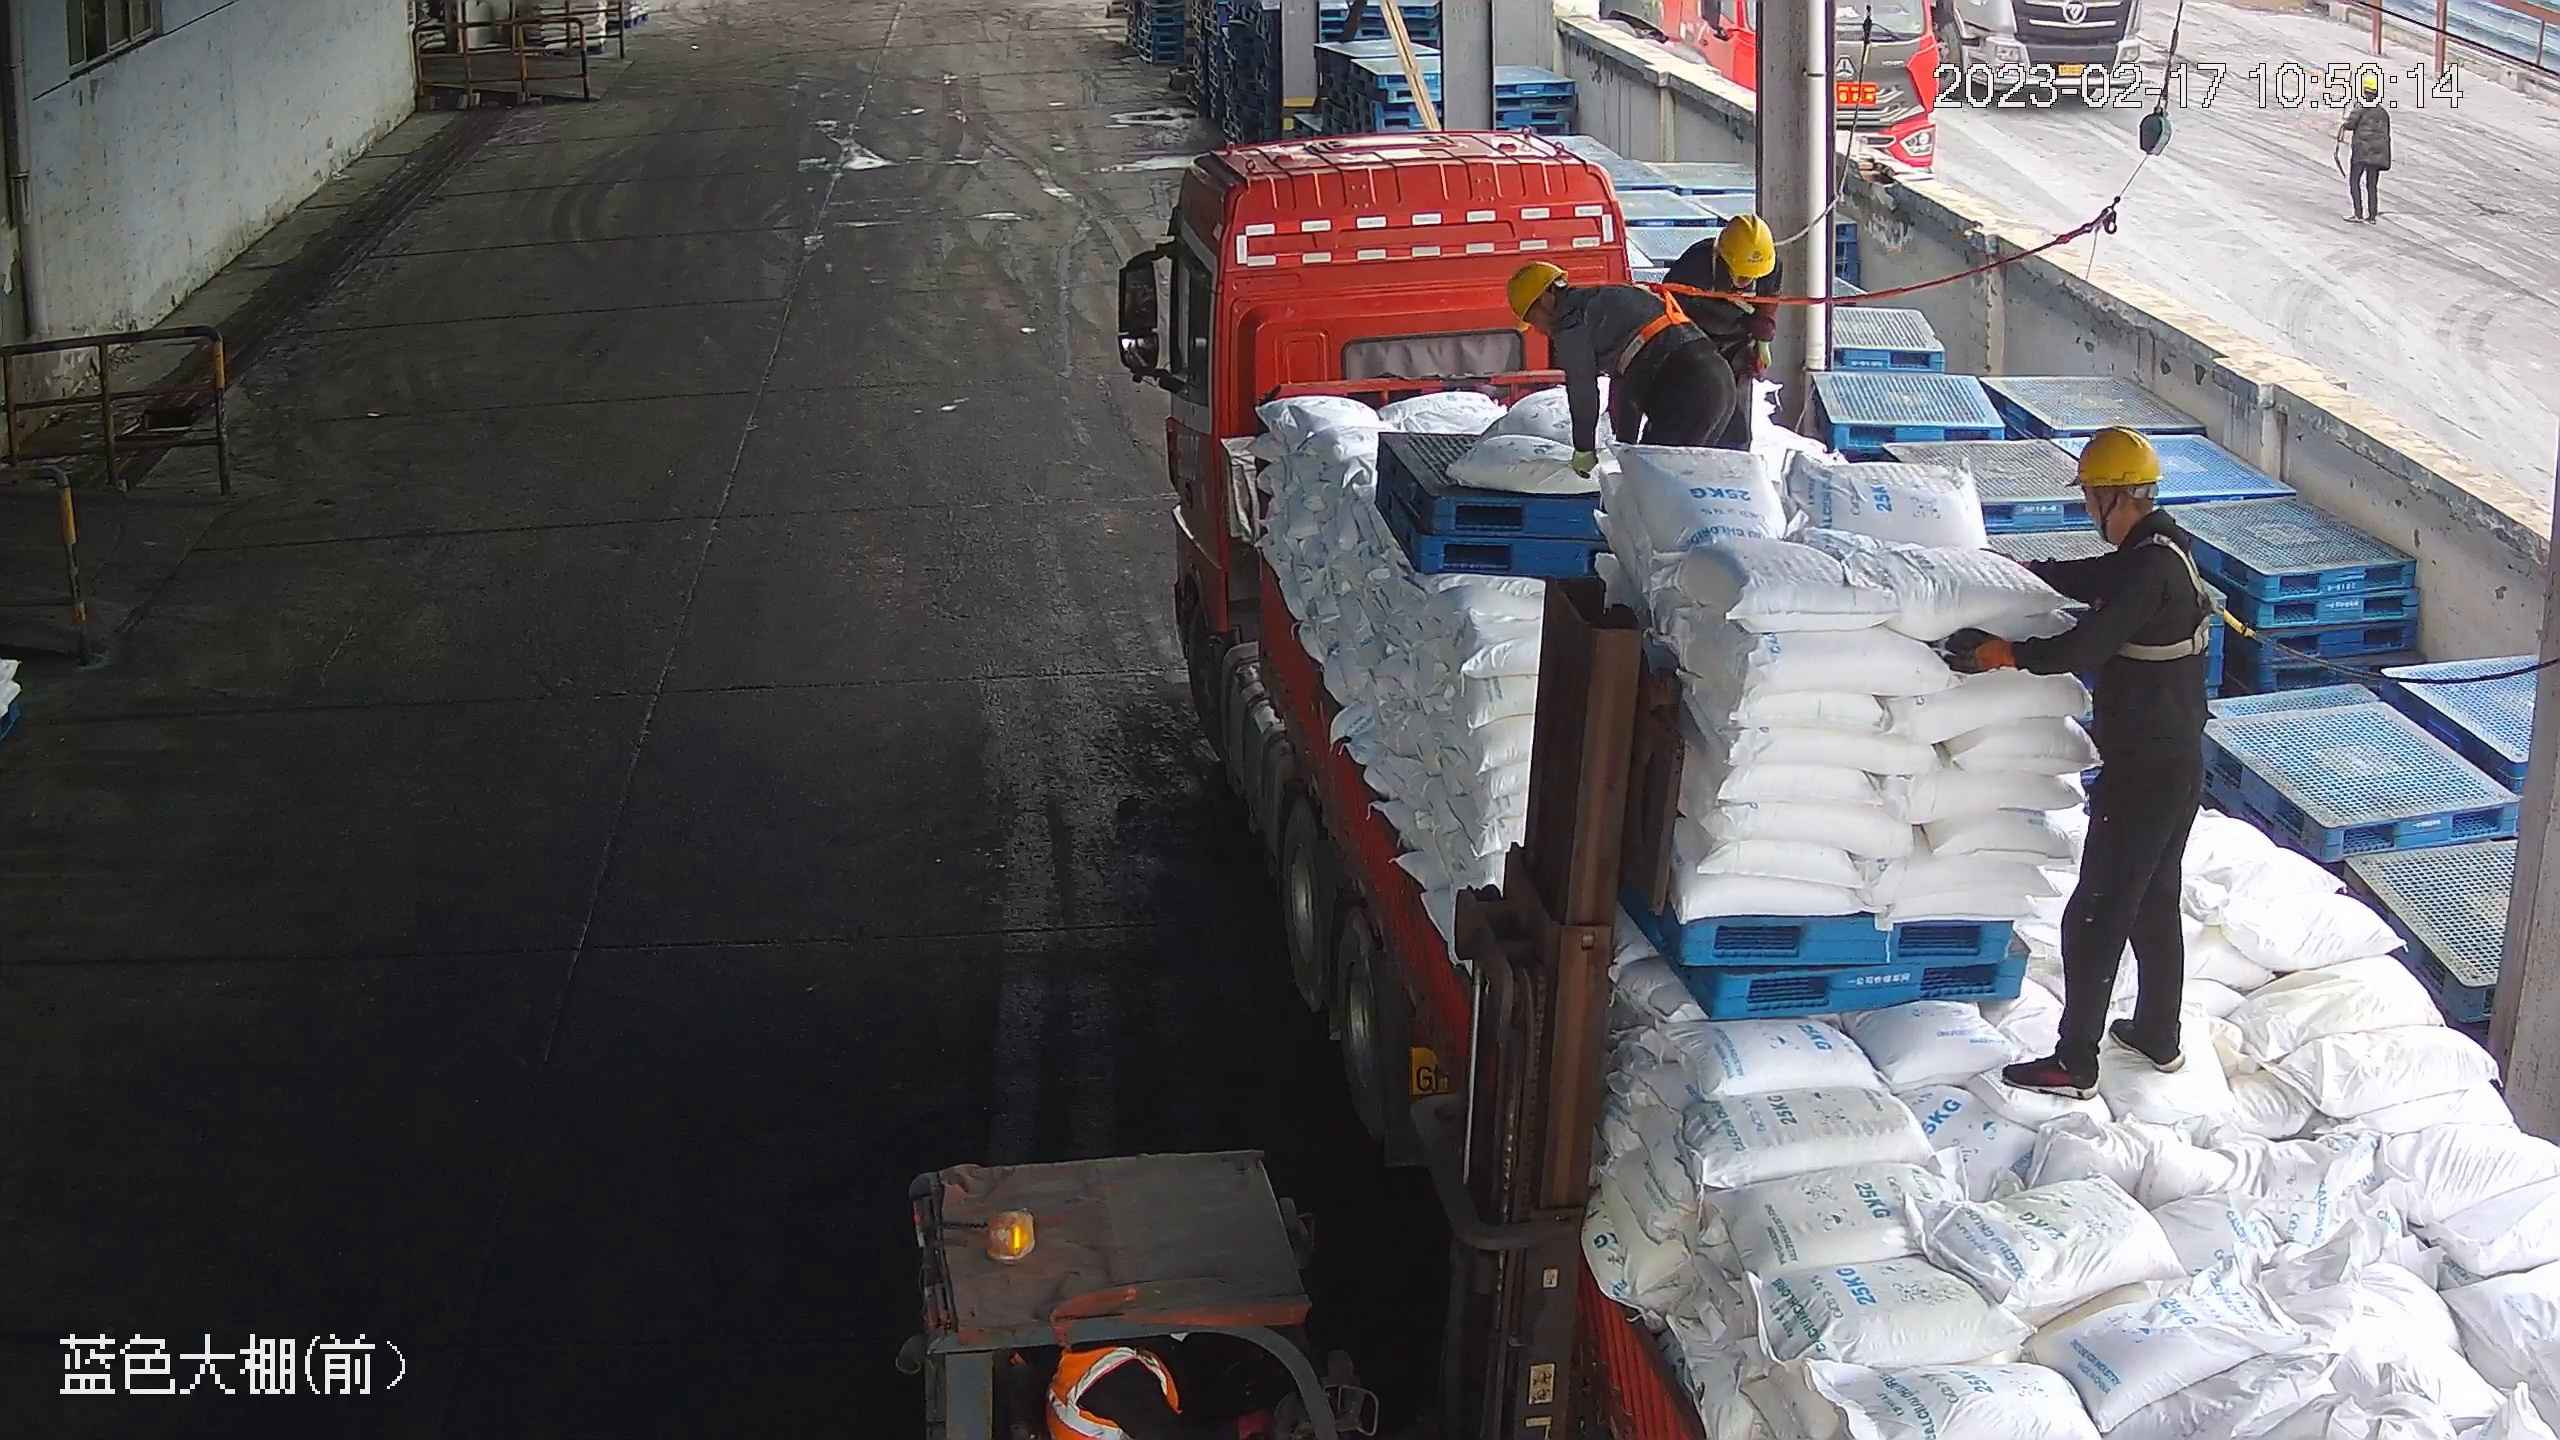belt: (2110, 521, 2238, 667), (1605, 282, 1697, 364), (1706, 244, 1780, 301)
head: (2054, 423, 2215, 613), (1507, 258, 1641, 365), (1679, 211, 1784, 297), (2345, 73, 2394, 119)
helmet: (2066, 424, 2166, 489), (1715, 215, 1778, 283), (1506, 258, 1565, 328), (2359, 72, 2380, 89)
people: (1949, 422, 2216, 1095), (1504, 262, 1736, 475), (1666, 209, 1780, 437), (2339, 72, 2394, 225)
truck: (1104, 132, 2558, 1436)
